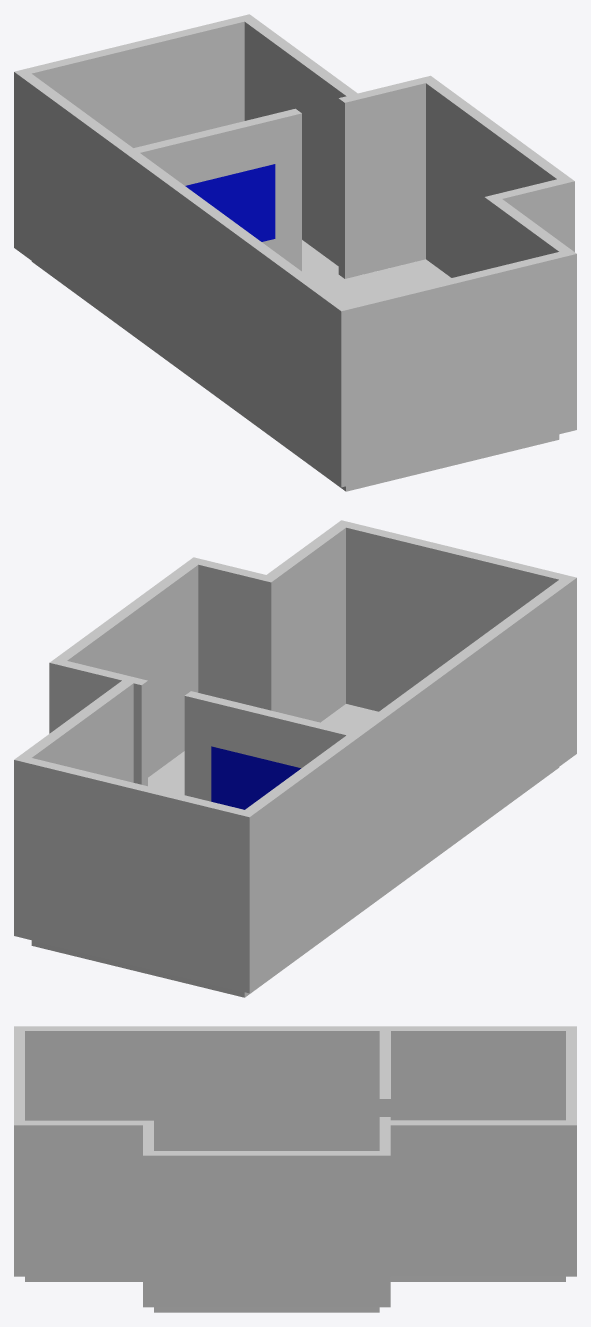
File: Shop walls.fbx
3 views of the same model, one above another, from view 1: azimuth 30°, elevation 25°; view 2: azimuth 150°, elevation 25°; view 3: azimuth 270°, elevation 25° (orthographic). The views are drawn at different scales.
Parts seen in each view (by area): view 1: roof.002; view 2: roof.002; view 3: roof.002.
Boxes of the visible parts, left/top/right/bottom form: roof.002: left=14, top=14, right=576, bottom=491; roof.002: left=14, top=520, right=576, bottom=997; roof.002: left=14, top=1026, right=576, bottom=1312.
Size of the model in its own units: 550 by 320 by 1011.
